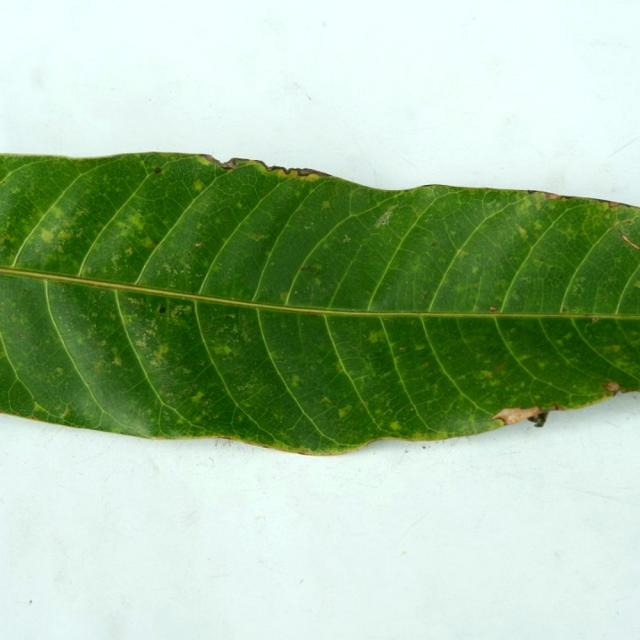Mango: (0, 154, 639, 452)
Powdery_Mildew: (179, 266, 230, 301), (150, 251, 198, 287), (38, 219, 83, 254), (146, 346, 169, 368), (375, 206, 396, 228), (187, 177, 210, 197), (285, 369, 304, 390), (32, 401, 53, 417), (170, 304, 191, 319), (367, 328, 386, 344), (571, 275, 587, 294), (236, 380, 257, 393), (128, 216, 145, 231), (212, 344, 233, 356), (2, 232, 19, 245), (489, 361, 507, 373), (338, 405, 353, 419), (50, 205, 65, 218), (40, 229, 55, 242), (190, 391, 205, 403), (157, 344, 170, 356), (135, 337, 148, 349), (543, 193, 565, 200), (251, 233, 270, 241), (143, 238, 156, 249), (517, 226, 528, 239), (455, 249, 470, 258), (389, 421, 402, 431), (605, 345, 621, 353), (606, 201, 624, 208), (533, 220, 544, 231), (320, 395, 332, 405), (60, 406, 70, 418), (534, 257, 549, 265), (112, 355, 122, 366), (562, 331, 573, 341), (279, 291, 289, 302), (92, 362, 103, 372), (481, 370, 493, 379), (312, 276, 322, 286), (176, 415, 187, 424), (222, 313, 236, 320), (54, 367, 64, 376), (321, 200, 331, 209), (620, 218, 635, 224), (415, 344, 426, 352), (300, 265, 314, 271), (471, 265, 480, 274), (335, 363, 344, 372), (124, 247, 134, 255), (421, 291, 429, 301), (342, 234, 351, 242), (10, 187, 20, 194), (235, 201, 243, 209), (214, 218, 222, 226), (158, 306, 166, 314), (374, 408, 383, 415), (322, 243, 331, 250), (589, 316, 599, 322), (153, 167, 161, 174), (236, 415, 243, 422), (86, 266, 93, 273), (232, 325, 238, 333), (422, 362, 430, 368), (562, 306, 568, 313), (490, 306, 497, 312), (22, 287, 29, 293), (431, 242, 439, 247), (194, 242, 202, 247), (636, 279, 640, 288), (17, 332, 23, 338), (186, 251, 192, 257), (399, 347, 405, 352), (364, 401, 369, 406), (410, 407, 414, 412), (422, 445, 426, 449)
